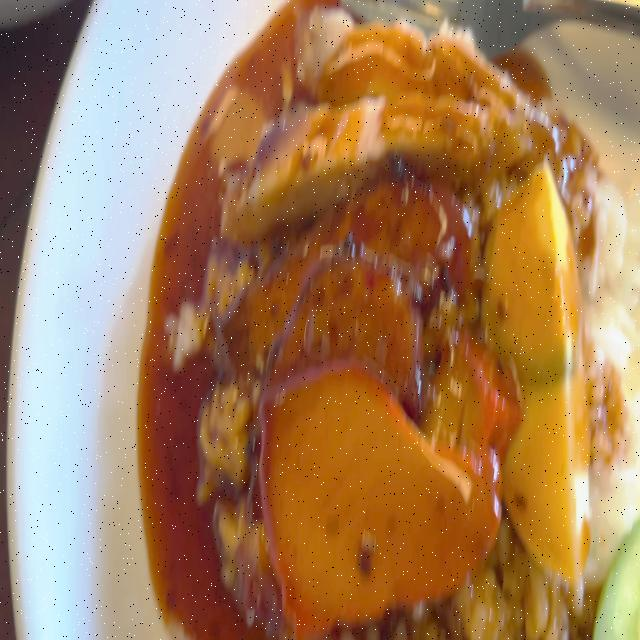boiled_egg: (482, 166, 598, 580)
chainese_sausage: (224, 188, 477, 415)
crispy_pork: (218, 14, 548, 210)
cucumber: (592, 518, 640, 639)
red_pork: (262, 382, 491, 609)
red_pork_and_crispy_pork: (161, 0, 640, 640)
